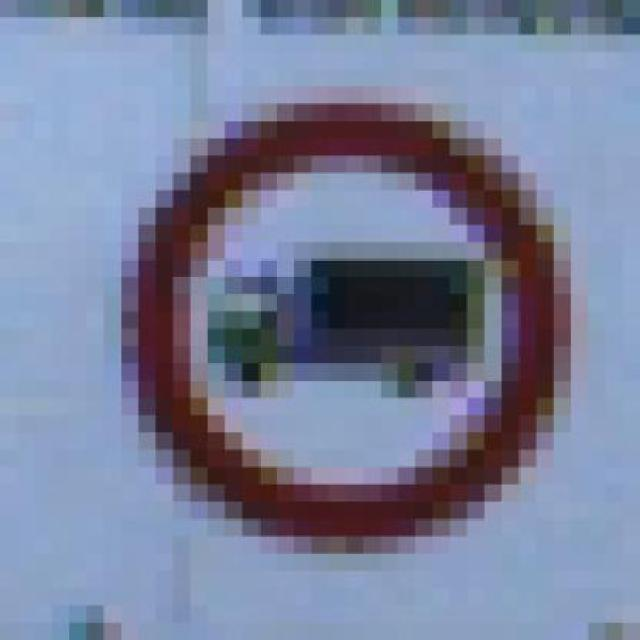Truck traffic is prohibited: (52, 94, 606, 546)
